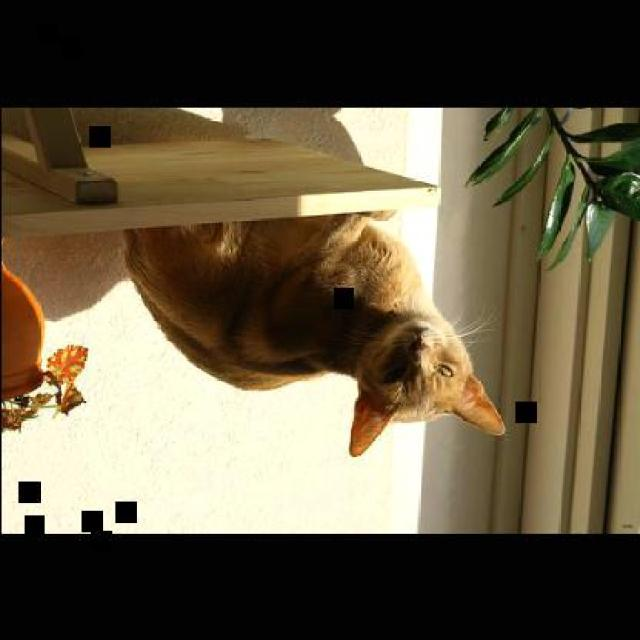unauthorized: (119, 106, 506, 457)
